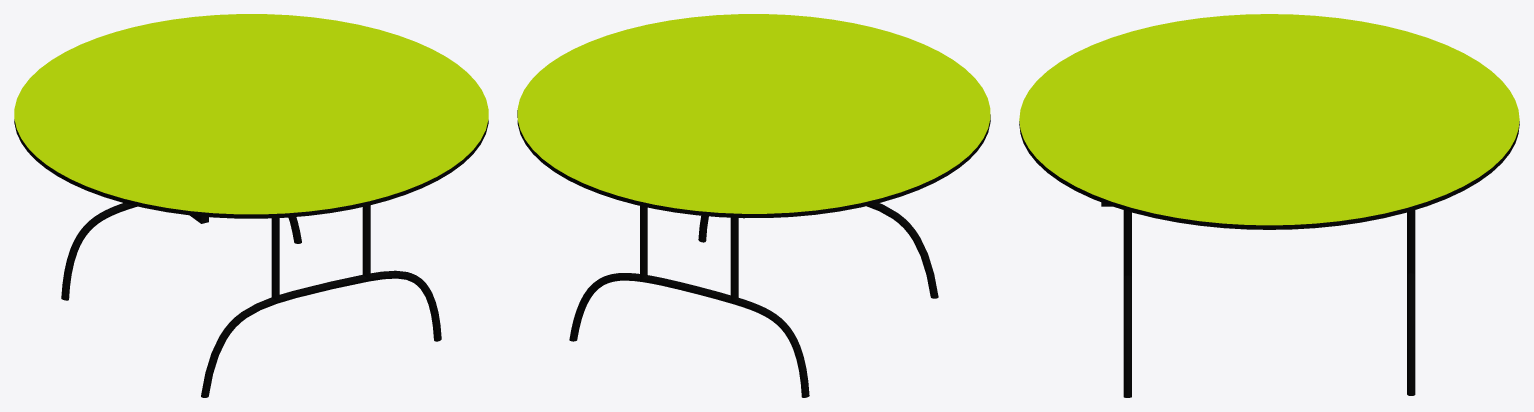
File: large_round.fbx
The picture shows the model from 3 angles, left to right: view 1: azimuth 30°, elevation 25°; view 2: azimuth 150°, elevation 25°; view 3: azimuth 270°, elevation 25°; orthographic projection. The views are drawn at different scales.
Visible parts, largest first — view 1: Body1; view 2: Body1; view 3: Body1.
Part boxes in pixels (box(x1,y1,x2,y2)): Body1: box(14, 14, 488, 397); Body1: box(517, 14, 990, 397); Body1: box(1019, 14, 1519, 397).
Size of the model in its own units: 152 by 72.91 by 152.
